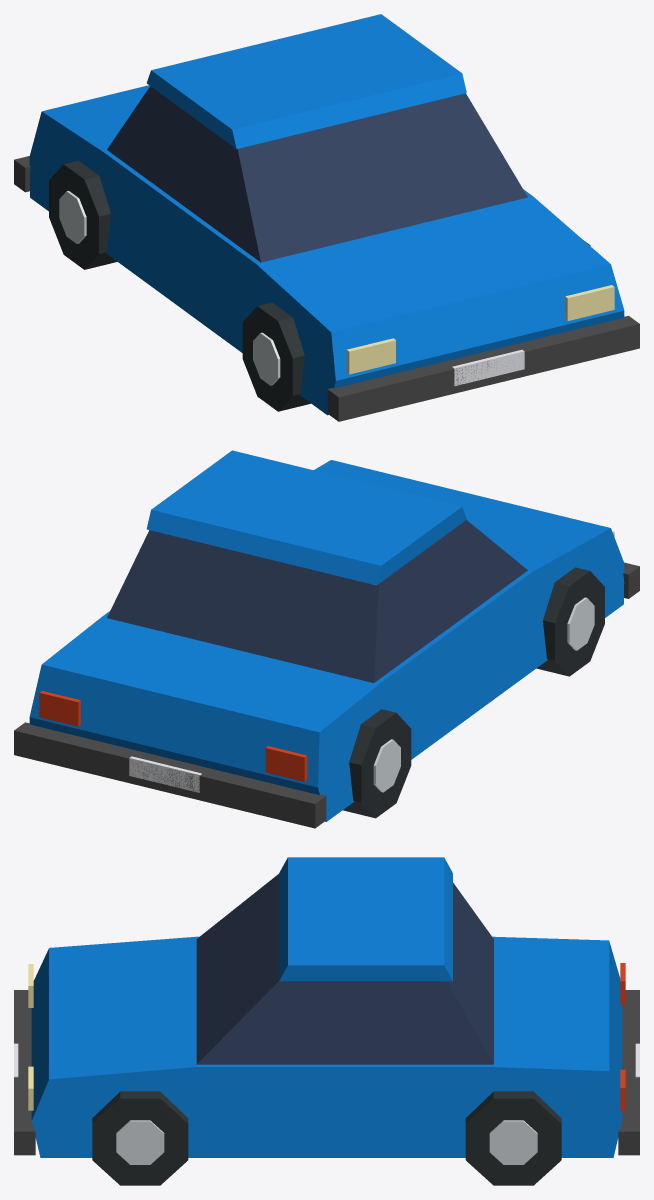
Rendered from auto-blau.glb.
3 renders of one model, top to bottom at view 1: azimuth 30°, elevation 25°; view 2: azimuth 150°, elevation 25°; view 3: azimuth 270°, elevation 25°, orthographic. The views are drawn at different scales.
Parts seen in each view (by area): view 1: auto-blau-karosserie, auto-blau-kabine, auto-blau-dach, auto-blau-stoss, wheel-fr, wheel-rr, auto-blau-schild, auto-blau-scheinwerfer, auto-blau-scheinwerfer.001; view 2: auto-blau-karosserie, auto-blau-kabine, auto-blau-dach, auto-blau-stoss.001, wheel-rr, wheel-fr, auto-blau-schild.001, auto-blau-ruecklicht, auto-blau-ruecklicht.001; view 3: auto-blau-karosserie, auto-blau-kabine, auto-blau-dach, wheel-fl, wheel-rl, auto-blau-stoss.001, auto-blau-stoss.
Part boxes in pixels (x1,y1,x2,y2): auto-blau-karosserie: (29,85,624,415); auto-blau-kabine: (107,86,527,262); auto-blau-dach: (147,14,466,148); auto-blau-stoss: (327,315,639,421); wheel-fr: (242,302,310,411); wheel-rr: (49,160,117,269); auto-blau-schild: (452,349,524,385); auto-blau-scheinwerfer: (346,338,395,374); auto-blau-scheinwerfer.001: (565,285,614,320); auto-blau-karosserie: (29,460,624,821); auto-blau-kabine: (107,520,527,682); auto-blau-dach: (146,450,466,585); auto-blau-stoss.001: (14,722,326,828); wheel-rr: (343,709,411,818); wheel-fr: (536,567,604,676); auto-blau-schild.001: (129,756,201,792); auto-blau-ruecklicht: (265,746,307,781); auto-blau-ruecklicht.001: (39,691,80,726); auto-blau-karosserie: (31,936,622,1157); auto-blau-kabine: (196,873,493,1064); auto-blau-dach: (279,857,452,981); wheel-fl: (92,1091,188,1185); wheel-rl: (465,1091,561,1185); auto-blau-stoss.001: (618,990,639,1155); auto-blau-stoss: (14,990,35,1155).
Size of the model in its own units: 4.06 by 2.55 by 7.21.
